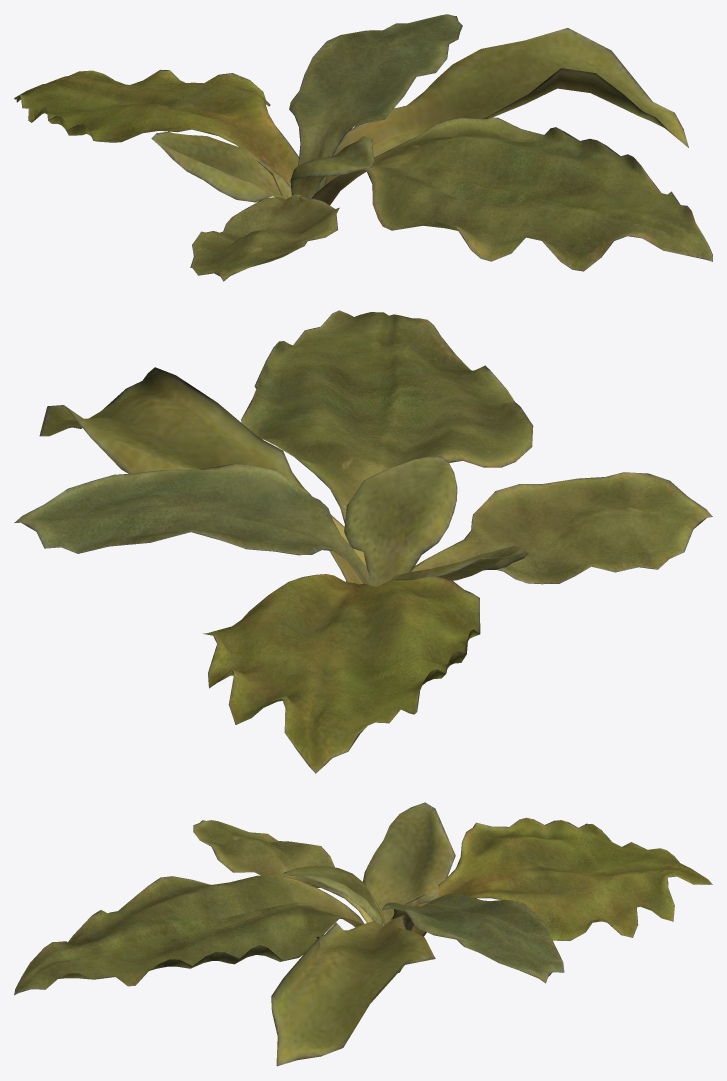
File: crystalline_iceplant_a.gltf
3 views of the same model, one above another, from view 1: azimuth 30°, elevation 25°; view 2: azimuth 150°, elevation 25°; view 3: azimuth 270°, elevation 25° (orthographic). The views are drawn at different scales.
Visible parts, largest first — view 1: crystalline_iceplant_d_LOD0; view 2: crystalline_iceplant_d_LOD0; view 3: crystalline_iceplant_d_LOD0.
Part boxes in pixels (left/top/right/bottom): crystalline_iceplant_d_LOD0: left=14, top=14, right=712, bottom=281; crystalline_iceplant_d_LOD0: left=14, top=310, right=712, bottom=773; crystalline_iceplant_d_LOD0: left=14, top=802, right=712, bottom=1066.
Bounding box in the file's own units: 0.1437 × 0.038 × 0.1827.
1 material, 1 textured.
